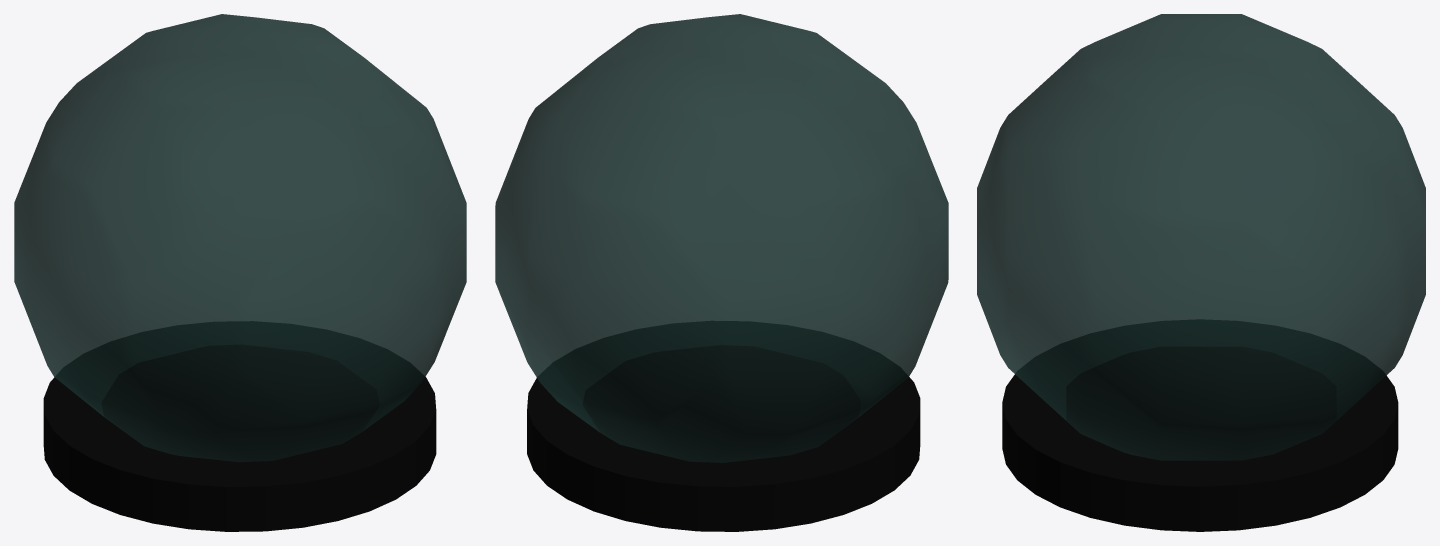
The model's file is crystalball_m1.fbx.
3 views of the same model, side by side, from view 1: azimuth 30°, elevation 25°; view 2: azimuth 150°, elevation 25°; view 3: azimuth 270°, elevation 25° (orthographic).
Parts seen in each view (by area): view 1: CrystalBall, CrystalBallStand; view 2: CrystalBall, CrystalBallStand; view 3: CrystalBall, CrystalBallStand.
Part boxes in pixels (<box>): CrystalBall: <box>14,14,466,462</box>; CrystalBallStand: <box>43,344,436,531</box>; CrystalBall: <box>495,14,948,462</box>; CrystalBallStand: <box>527,345,920,531</box>; CrystalBall: <box>977,14,1425,460</box>; CrystalBallStand: <box>1002,346,1398,531</box>.
Bounding box in the file's own units: 0.3772 × 0.3809 × 0.3772.
